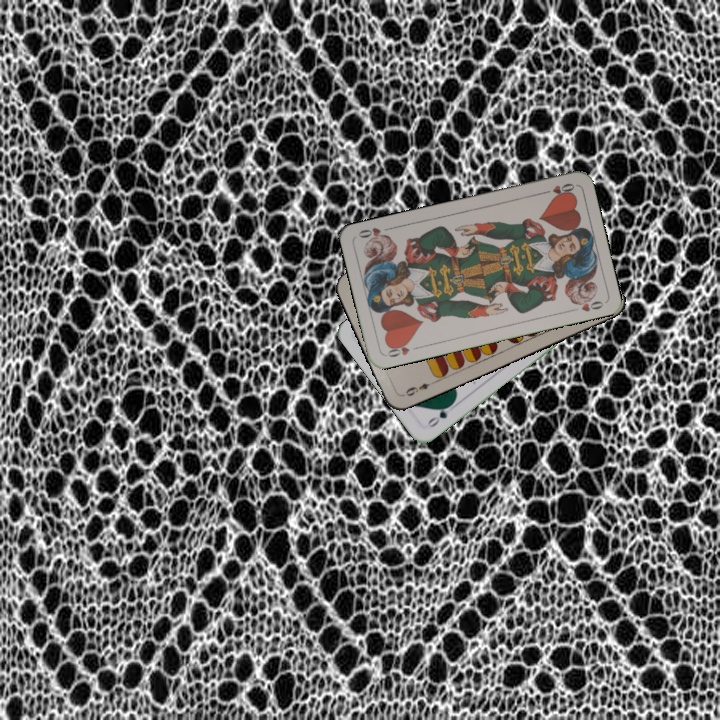E9: (399, 379, 432, 399)
GO: (422, 399, 456, 430)
HO: (382, 338, 422, 360), (537, 179, 577, 199)
